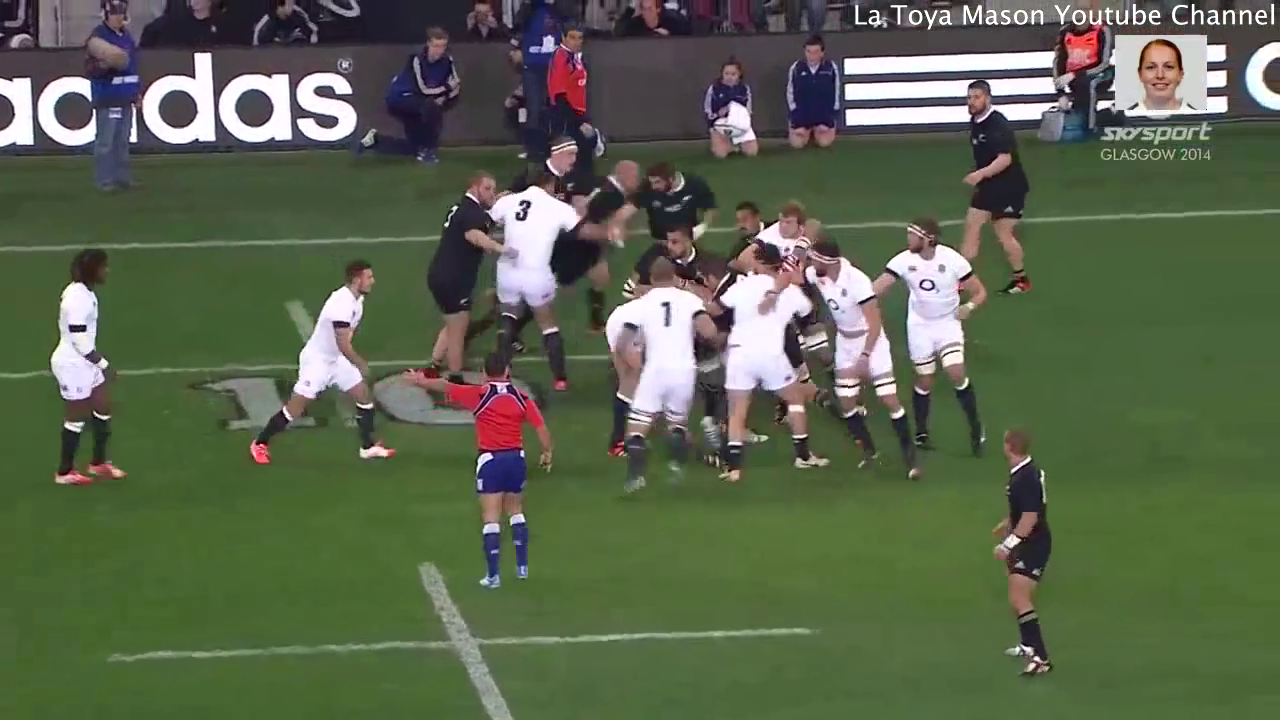maul: (597, 213, 868, 500)
player: (404, 356, 567, 586), (244, 254, 393, 477), (799, 237, 924, 483), (32, 237, 142, 502), (873, 216, 992, 456), (715, 260, 829, 474), (985, 424, 1069, 693), (947, 69, 1041, 300), (489, 161, 577, 395), (544, 154, 641, 356), (415, 171, 505, 384), (621, 264, 694, 491), (629, 145, 711, 224), (515, 136, 589, 200), (654, 222, 711, 276), (753, 203, 817, 250), (722, 197, 764, 250)
